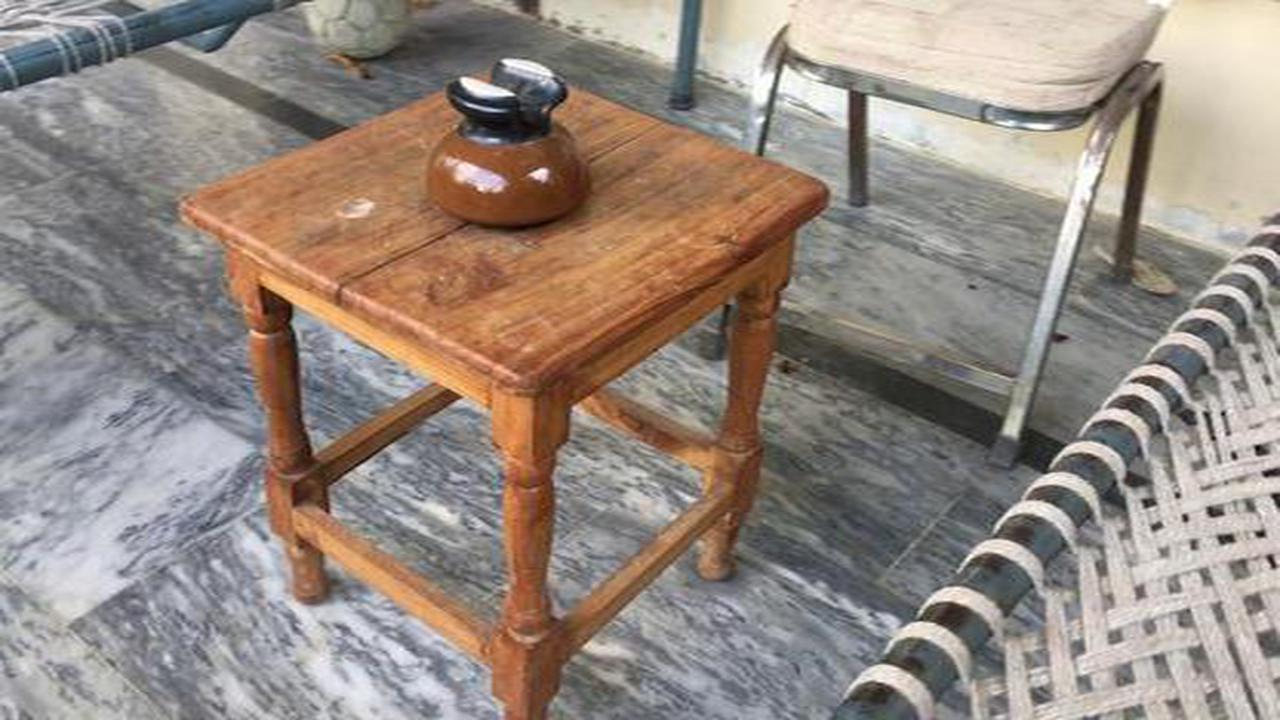insulator_pin: (410, 47, 616, 236)
